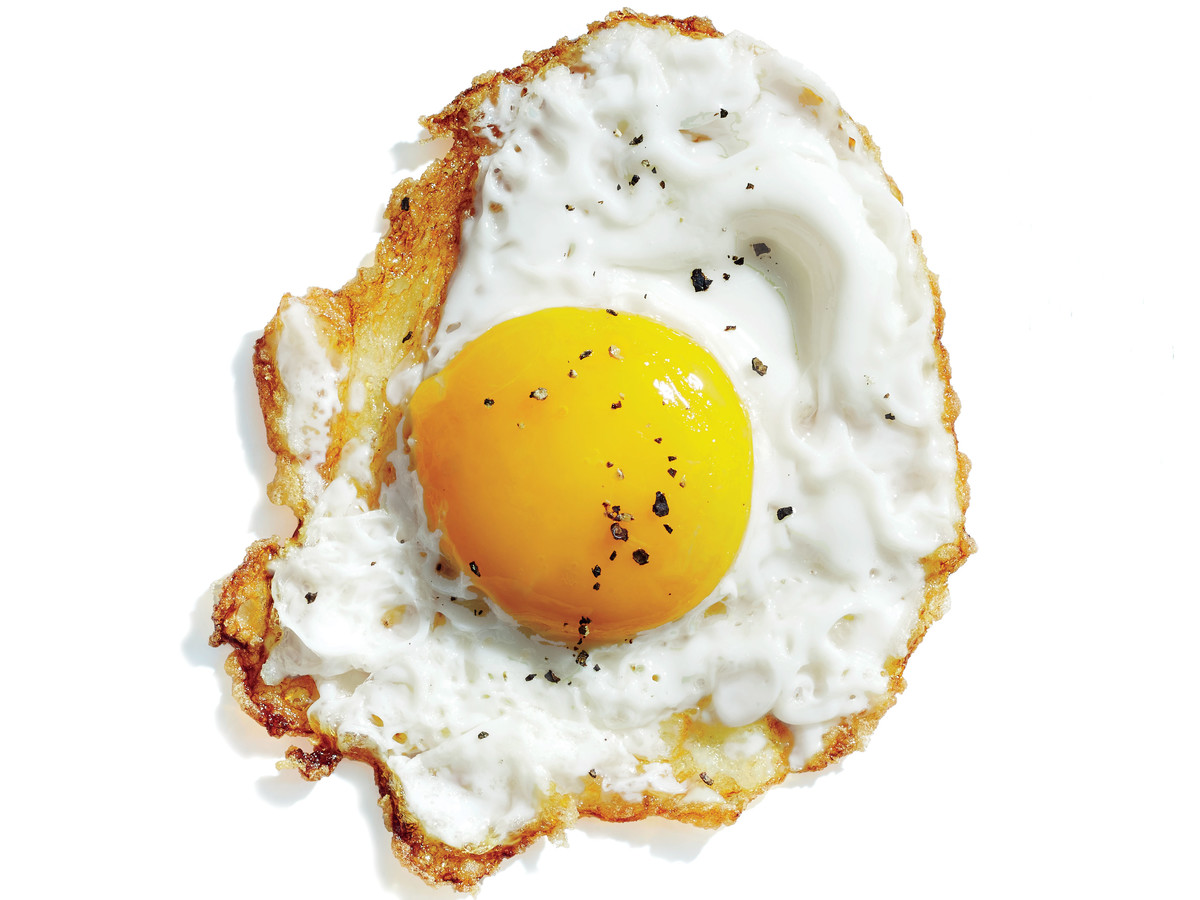fried egg: (205, 31, 1084, 886)
